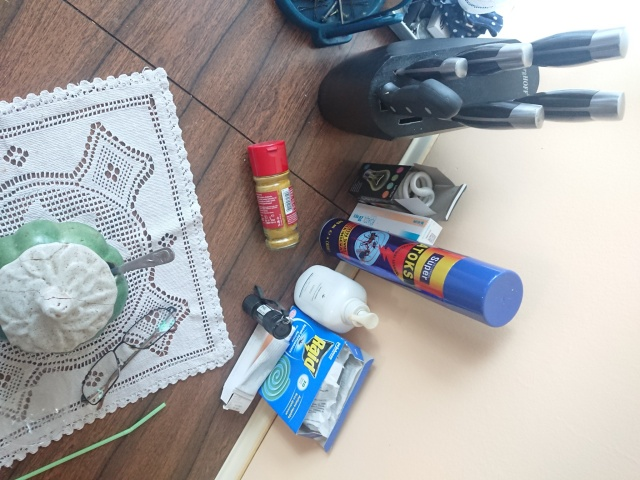Kotanyi Curry Spices Mix 70g: (245, 137, 305, 252)
